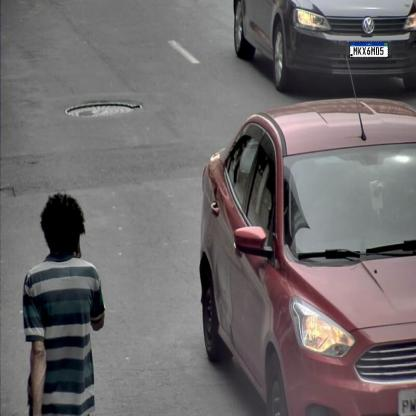PlacaM: (350, 42, 388, 58)
